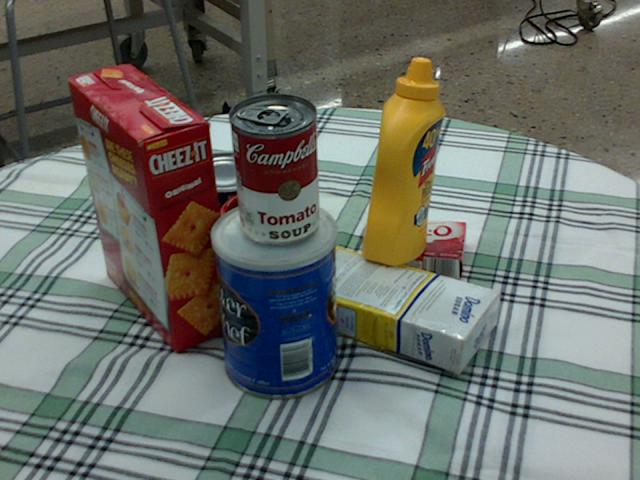cracker_box: (67, 66, 233, 350)
gelatin_box: (372, 216, 465, 281)
master_chef_can: (210, 198, 339, 399)
mug: (211, 187, 311, 298)
mustard_bottle: (362, 57, 444, 265)
potted_meat_can: (156, 172, 274, 262)
sugar_box: (289, 245, 501, 370)
tomato_soup_can: (227, 92, 317, 243)
tuna_fish_can: (182, 152, 265, 219)
